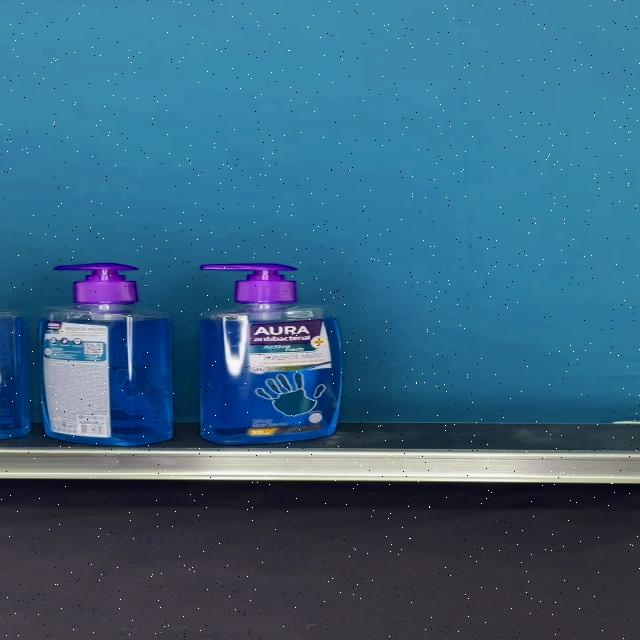Bottle: (197, 262, 343, 445), (38, 263, 173, 446)
Cap: (200, 262, 296, 304), (52, 264, 140, 306)
